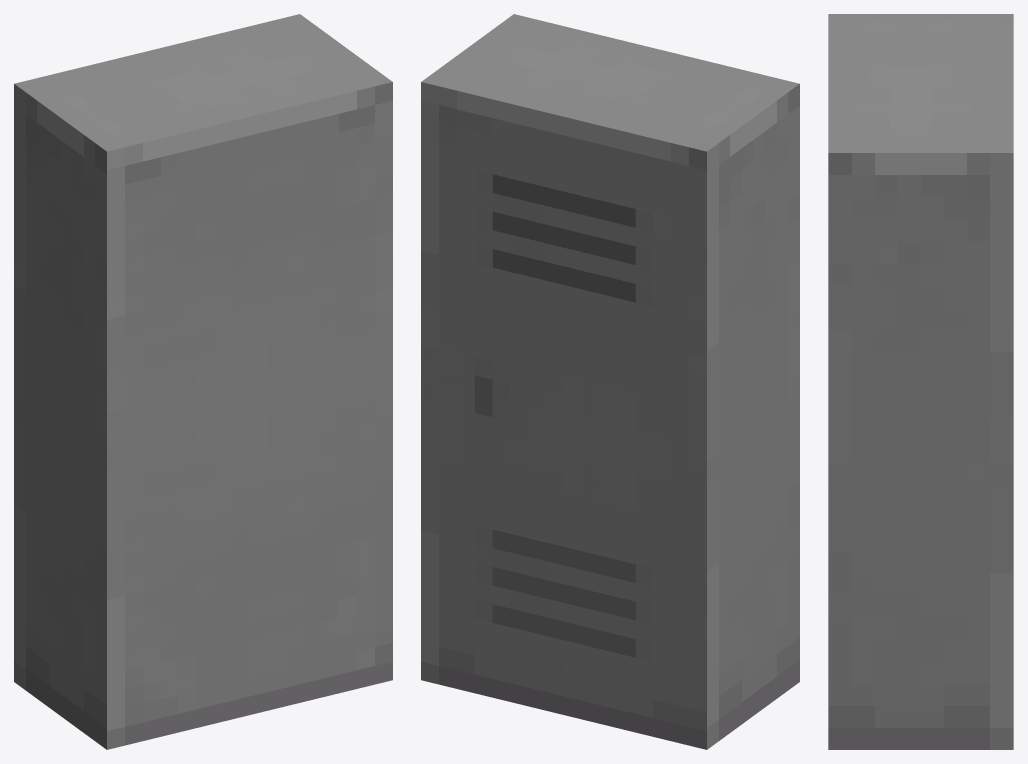
The model's file is locker_double.obj.
3 views of the same model, side by side, from view 1: azimuth 30°, elevation 25°; view 2: azimuth 150°, elevation 25°; view 3: azimuth 270°, elevation 25° (orthographic).
Parts seen in each view (by area): view 1: cube; view 2: door, cube; view 3: cube.
Boxes of the visible parts, left/top/right/bottom form: cube: left=14, top=14, right=392, bottom=749; door: left=439, top=105, right=688, bottom=726; cube: left=421, top=14, right=799, bottom=749; cube: left=828, top=14, right=1013, bottom=749.
Bounding box in the file's own units: 1 × 2 × 0.5625.
